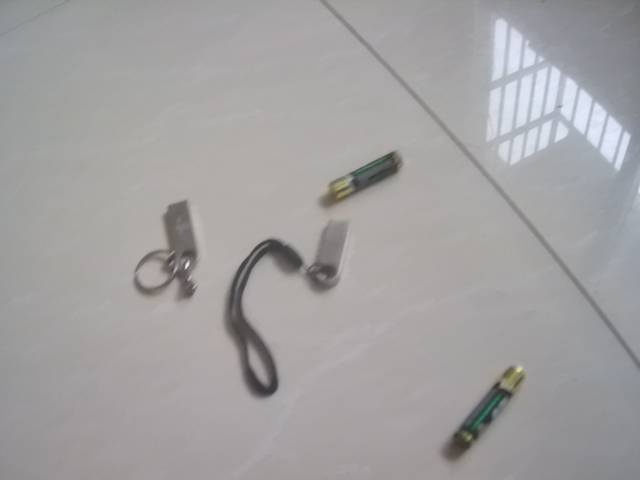U-disk: (223, 217, 358, 319), (132, 196, 207, 303)
battery: (439, 359, 530, 454), (325, 146, 407, 208)
